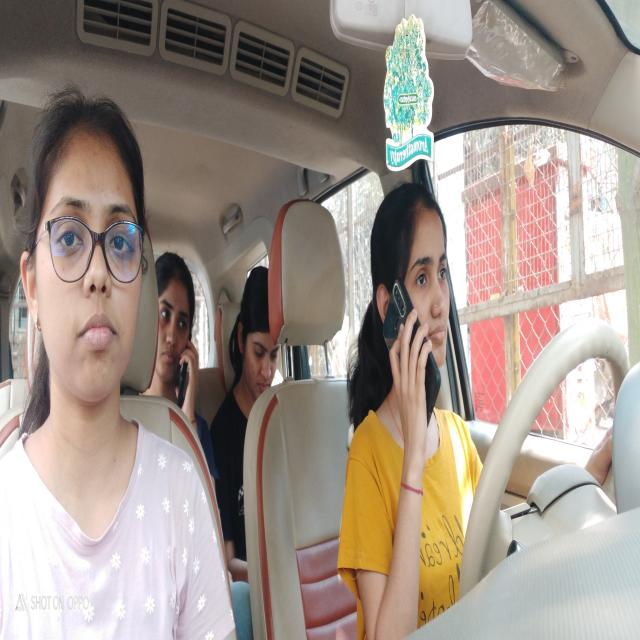mobile: (381, 278, 445, 424)
person: (28, 51, 149, 414), (361, 178, 467, 440), (154, 238, 206, 408), (236, 262, 288, 422)
